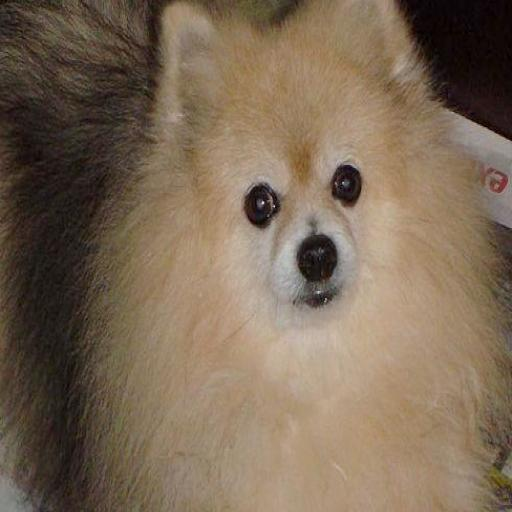dog_face: (166, 2, 395, 323)
